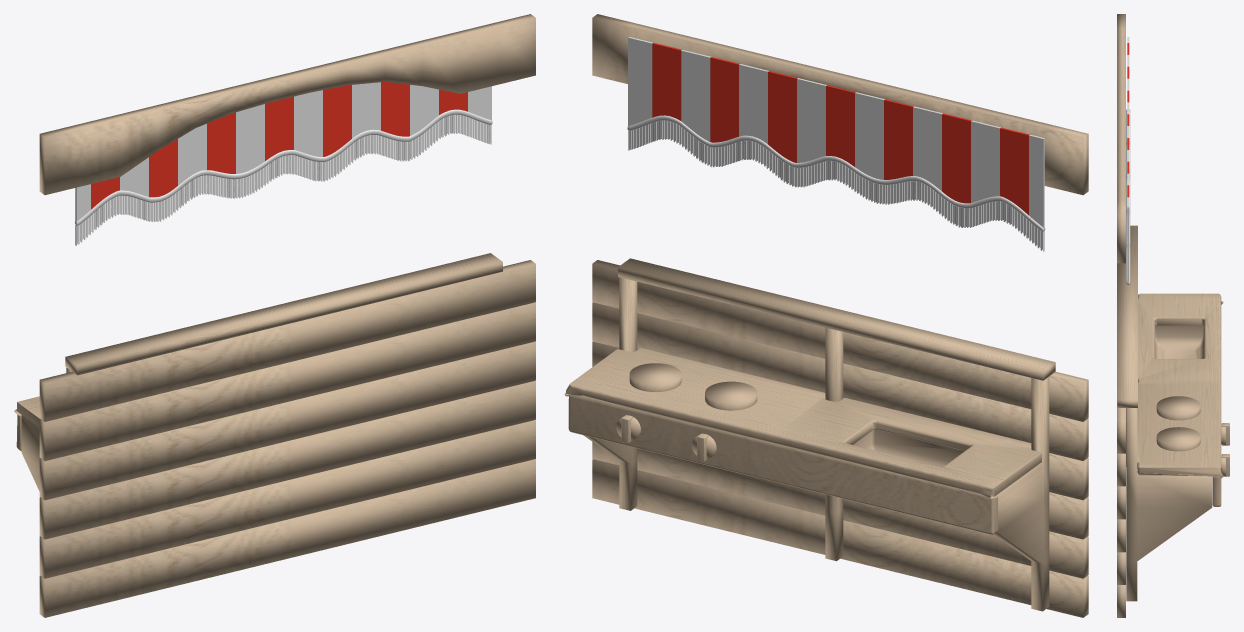
Rendered from KK__short.6f7ca84b.glb.
3 views of the same model, side by side, from view 1: azimuth 30°, elevation 25°; view 2: azimuth 150°, elevation 25°; view 3: azimuth 270°, elevation 25° (orthographic). The views are drawn at different scales.
Visible parts, largest first — view 1: Cube216,_colorize_, Cube216_1, Cube216_2, Cube216_3; view 2: Cube216,_colorize_, Cube216_1, Cube216_2, Cube216_3; view 3: Cube216,_colorize_, Cube216_1, Cube216_2.
Boxes of the visible parts, box(x1,y1,x2,y2) form: Cube216,_colorize_: box(14, 14, 535, 617); Cube216_1: box(75, 82, 492, 225); Cube216_2: box(91, 82, 467, 209); Cube216_3: box(75, 114, 491, 245); Cube216,_colorize_: box(564, 14, 1088, 617); Cube216_1: box(627, 37, 1045, 231); Cube216_2: box(652, 42, 1029, 215); Cube216_3: box(628, 120, 1044, 251); Cube216,_colorize_: box(1117, 14, 1229, 617); Cube216_1: box(1126, 37, 1130, 284); Cube216_2: box(1127, 43, 1129, 197).
Bounding box in the file's own units: 1.36 × 1.27 × 0.3227.
4 materials, 2 textured.
